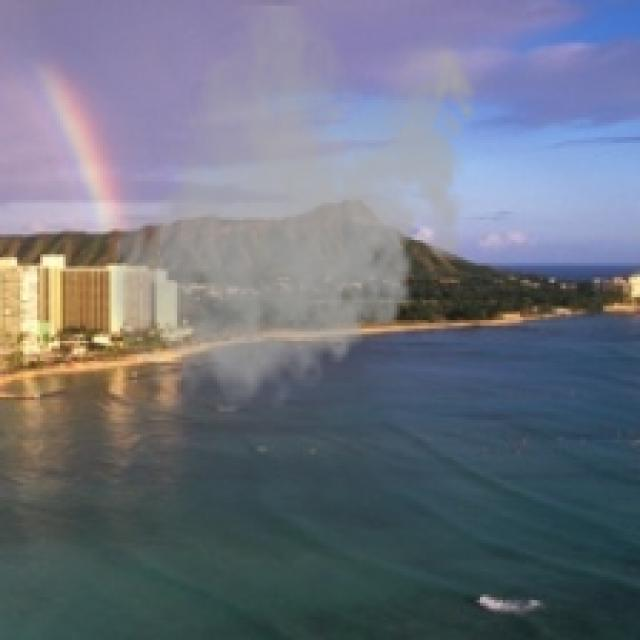smoke: (100, 0, 489, 417)
